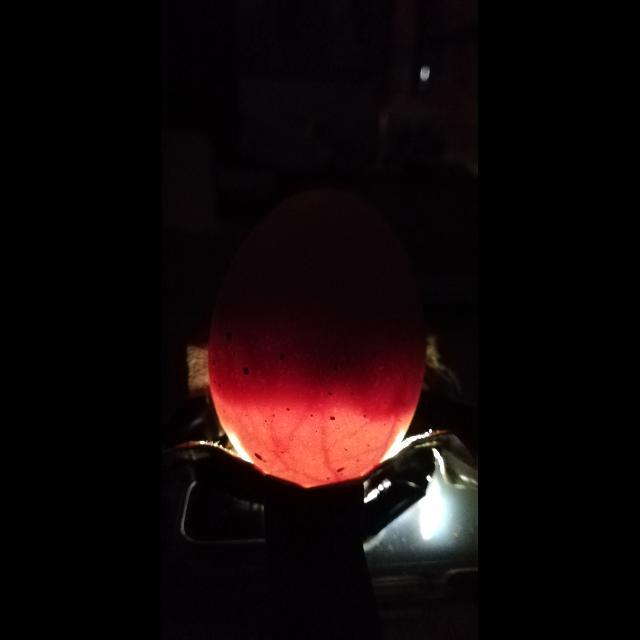Fertile: (206, 200, 427, 482)
